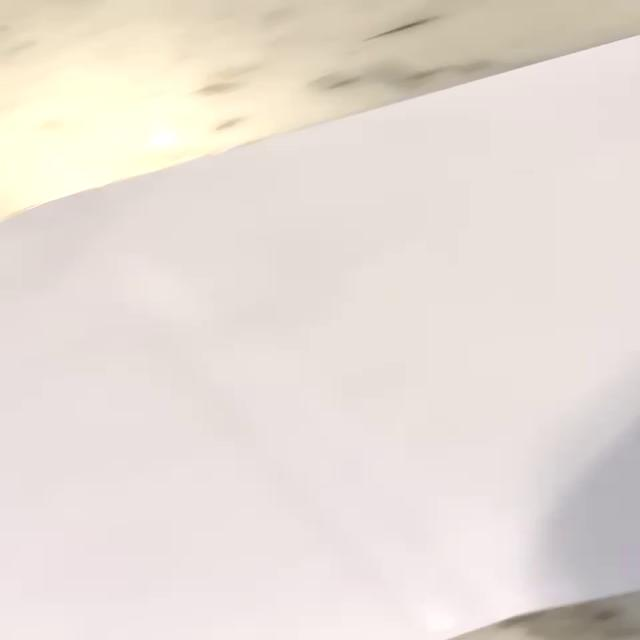road: (0, 35, 640, 640)
